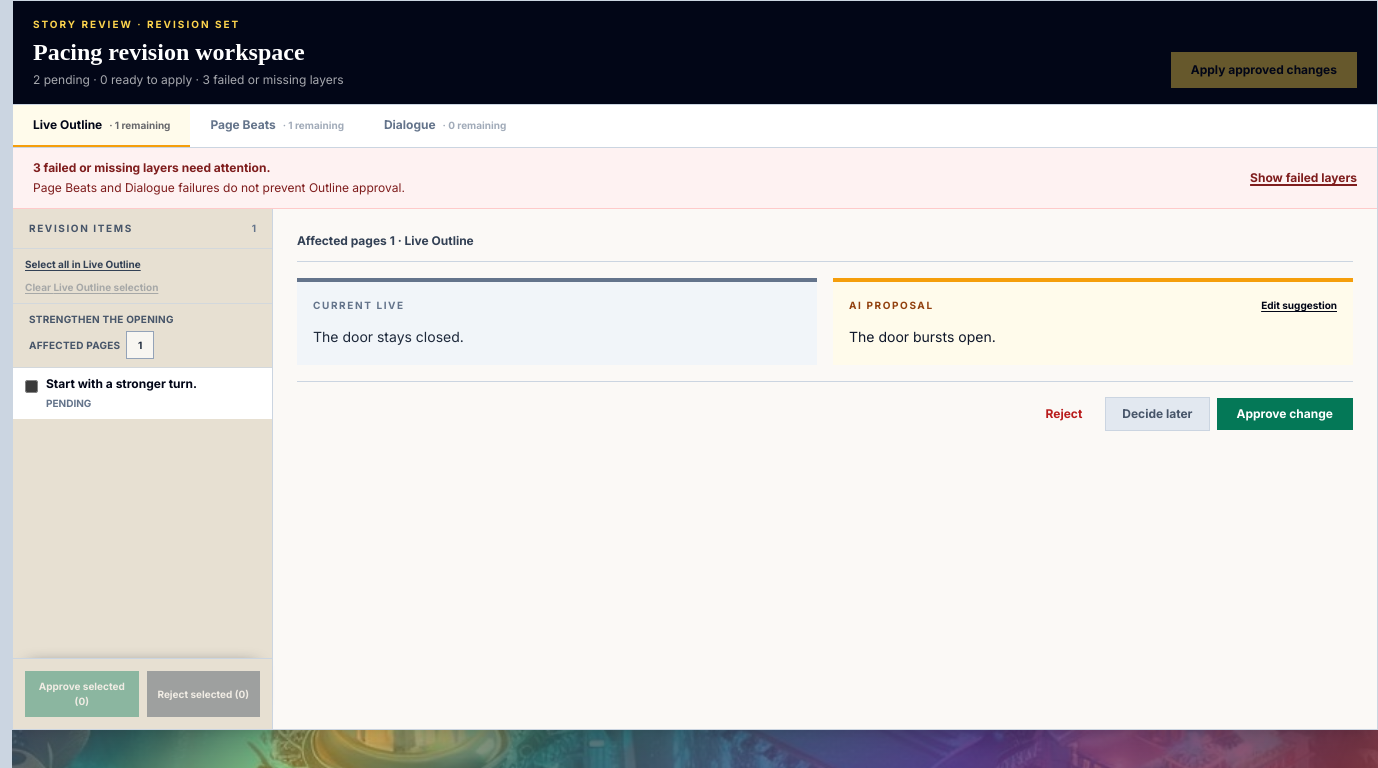
Test: WriterPacingRevisionWorkspace › allows Outline approval while child generation failures remain
This screenshot has width=1378, height=768.
Expected: the text "2 pending · 0 ready to apply · 3 failed or missing layers" is shown, [33,72,344,88]
Expected: the text "3 failed or missing layers need attention." is shown, [33,160,270,175]
Click the button "Select all in Live Outline": (83, 264) [25,257,141,272]
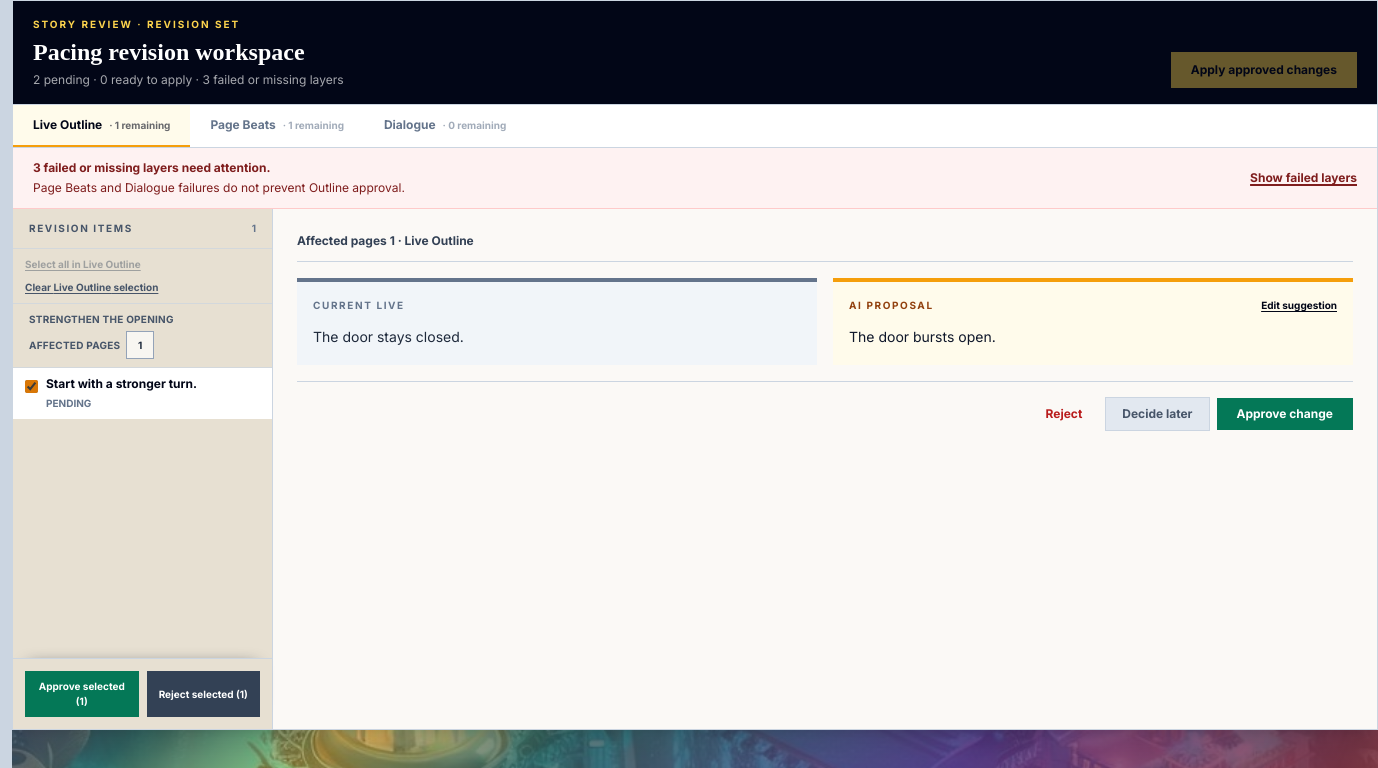
Click the button "Approve selected (1)": (82, 694) [25,671,138,717]
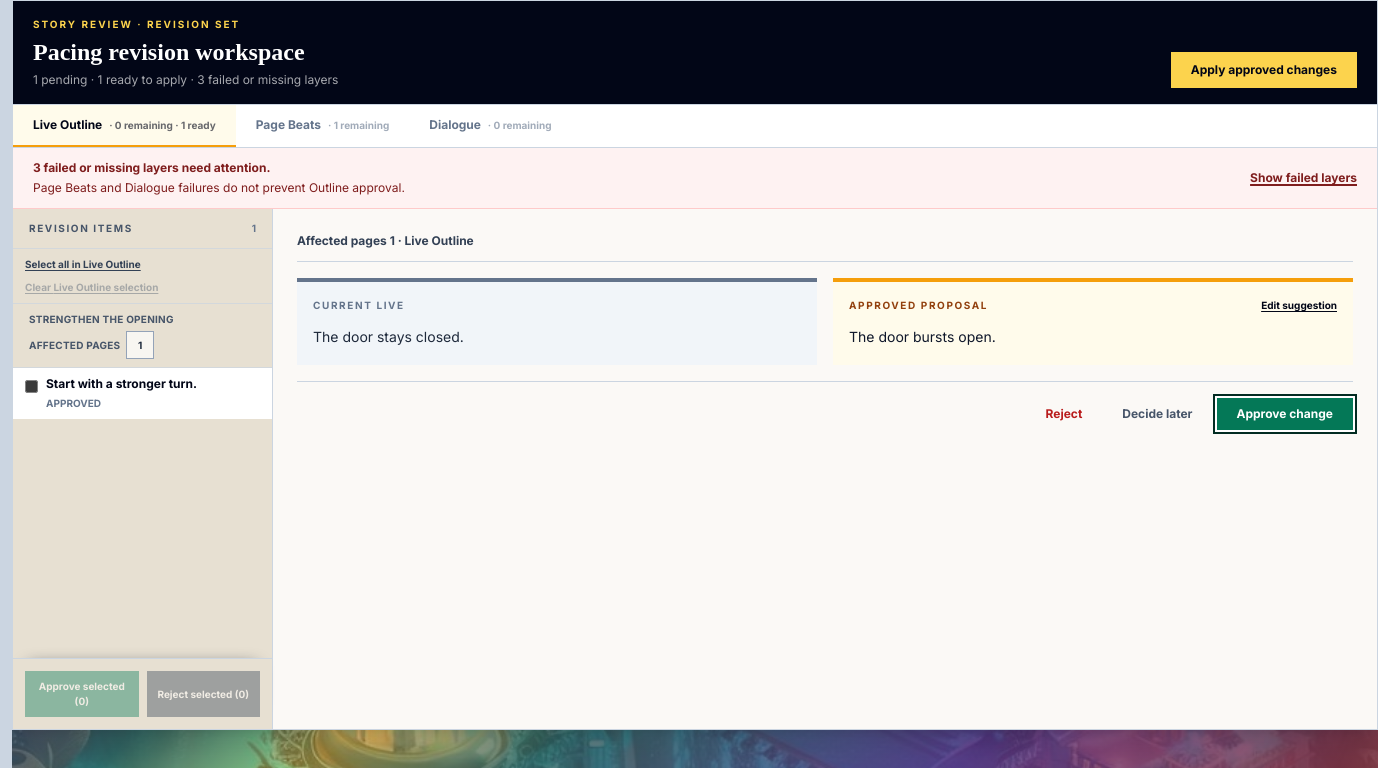
Expected: the text "3 failed or missing layers need attention." is shown, [33,160,270,175]
Now the text "1 pending · 1 ready to apply · 3 failed or missing layers" is shown, box [33,72,338,88]
